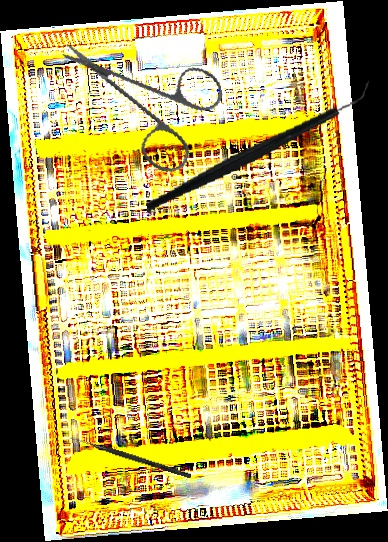Chopper: (134, 79, 382, 212)
Hook Surgical: (68, 435, 193, 479)
Iris Scissors: (60, 10, 238, 191)
